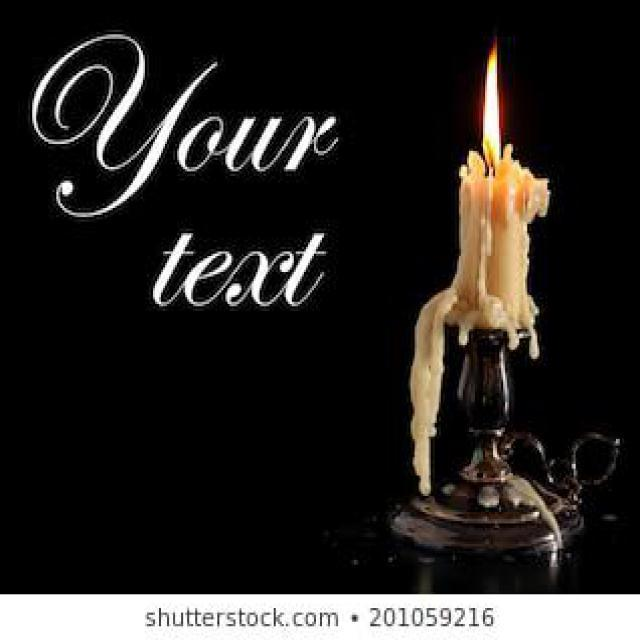Fire: (481, 46, 501, 164)
